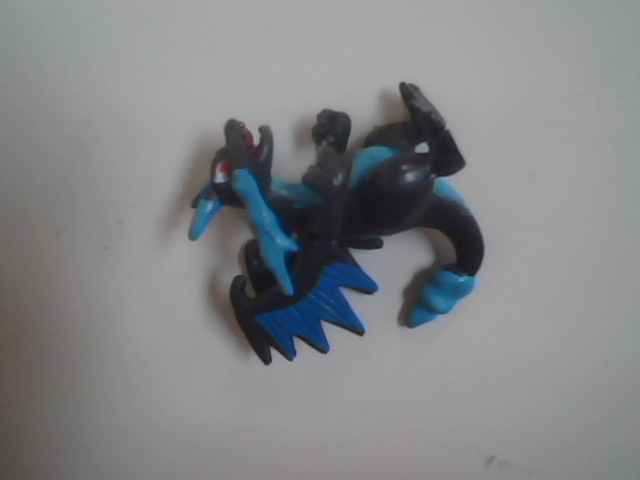charizard: (189, 30, 562, 398)
